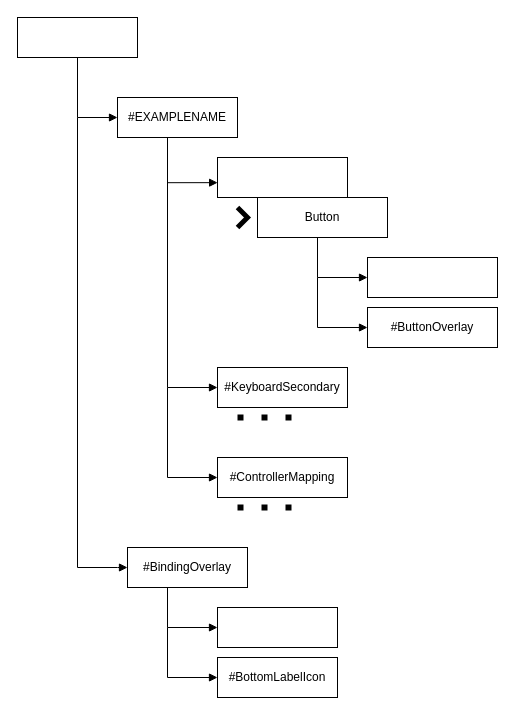
Image size: 515x715. Some labels were removed from this diagram. Each missing label, with the centre of its shape:
#Icon: [432,277]
#KeyboardPrimary: [282,177]
#TopLabel: [277,627]
rootVisualElement: [77,37]
